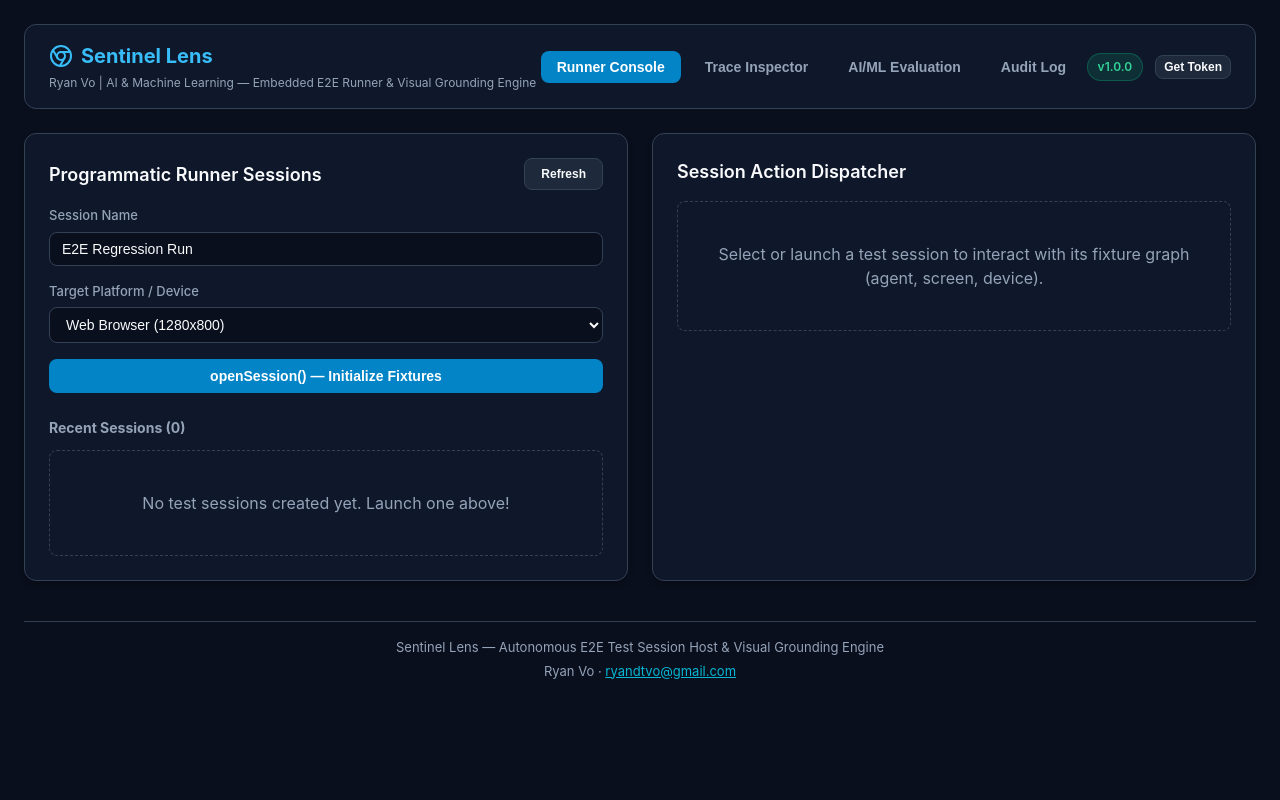
Scenario: Sentinel Lens App Component › switches to audit log tab and displays security trail
Click the button "Audit Log" at (1033, 66), box x1=985 y1=50 x2=1082 y2=82
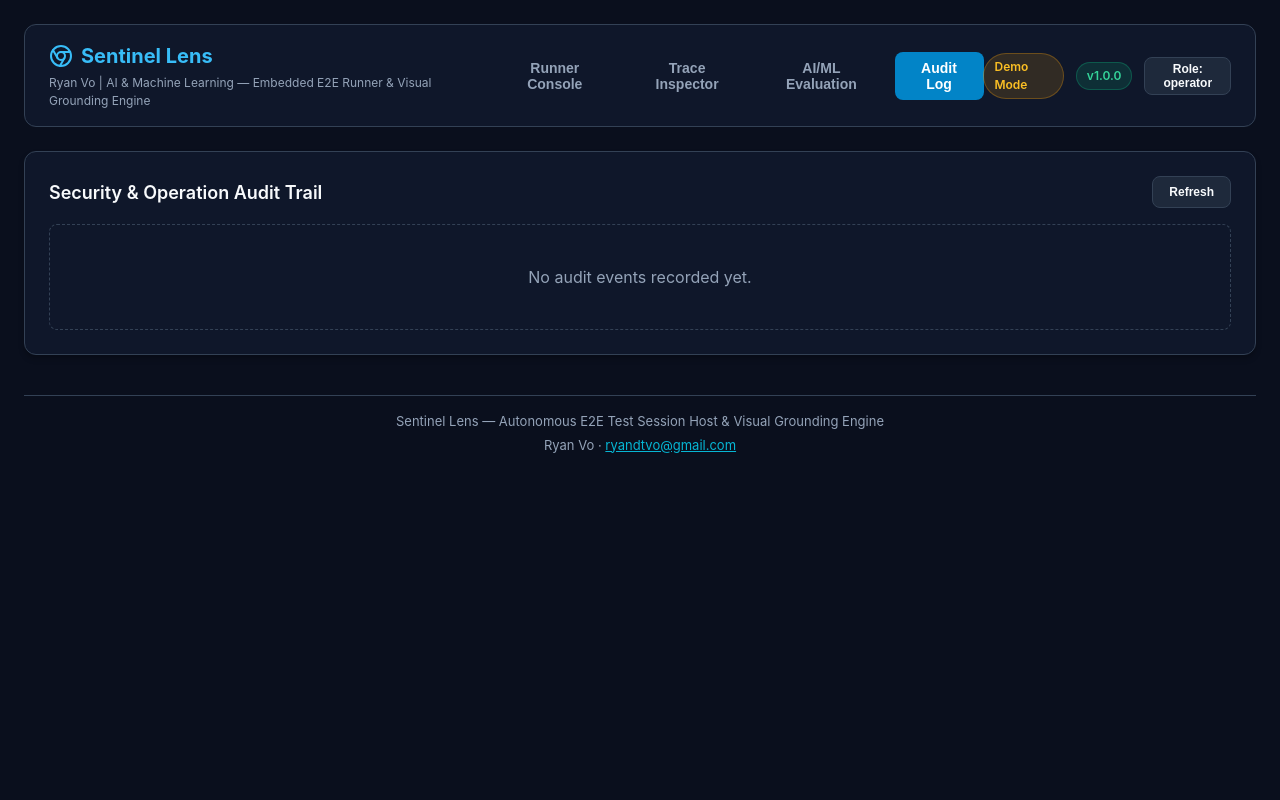
Now the text "Security & Operation Audit Trail" is shown, box x1=49 y1=178 x2=322 y2=206
